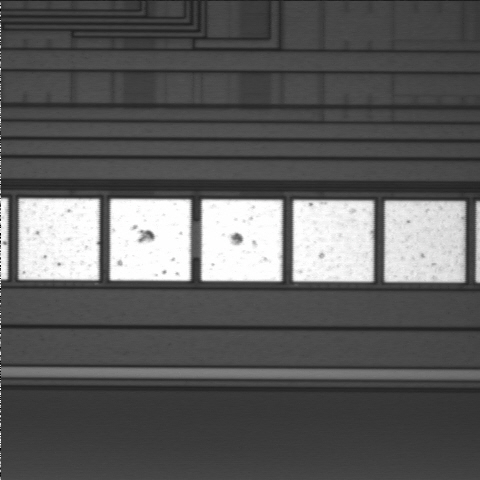pad: (110, 199, 191, 281), (293, 200, 374, 282), (201, 200, 282, 281), (384, 201, 465, 282), (19, 199, 99, 280)
